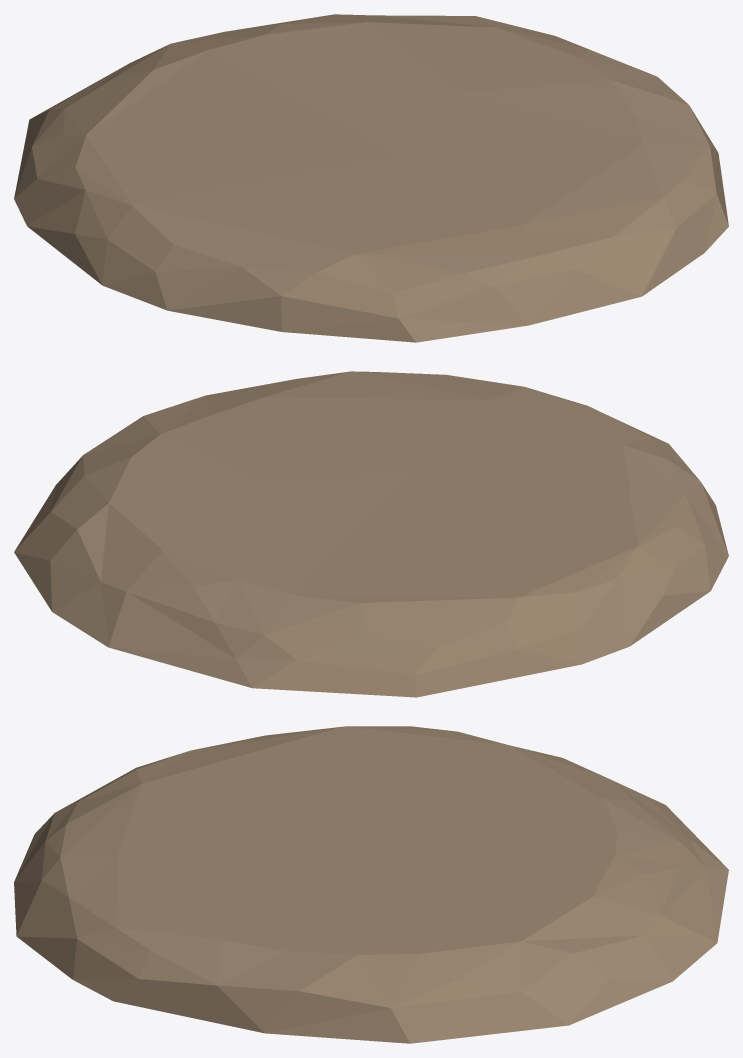
Rendered from SM_Env_Ground_Hill_Flat_03.fbx.
The picture shows the model from 3 angles, top to bottom: view 1: azimuth 30°, elevation 25°; view 2: azimuth 150°, elevation 25°; view 3: azimuth 270°, elevation 25°; orthographic projection. The views are drawn at different scales.
Parts seen in each view (by area): view 1: SM_Env_Ground_Hill_Flat_03; view 2: SM_Env_Ground_Hill_Flat_03; view 3: SM_Env_Ground_Hill_Flat_03.
Boxes of the visible parts, bbox=[...] form: SM_Env_Ground_Hill_Flat_03: bbox=[14, 14, 728, 342]; SM_Env_Ground_Hill_Flat_03: bbox=[14, 371, 728, 697]; SM_Env_Ground_Hill_Flat_03: bbox=[14, 726, 728, 1043].
Bounding box in the file's own units: 1118 × 90.25 × 1151.
